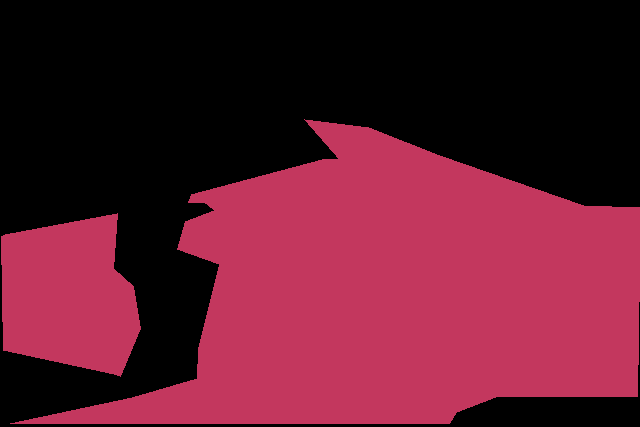Airplane: (1, 119, 640, 423)
